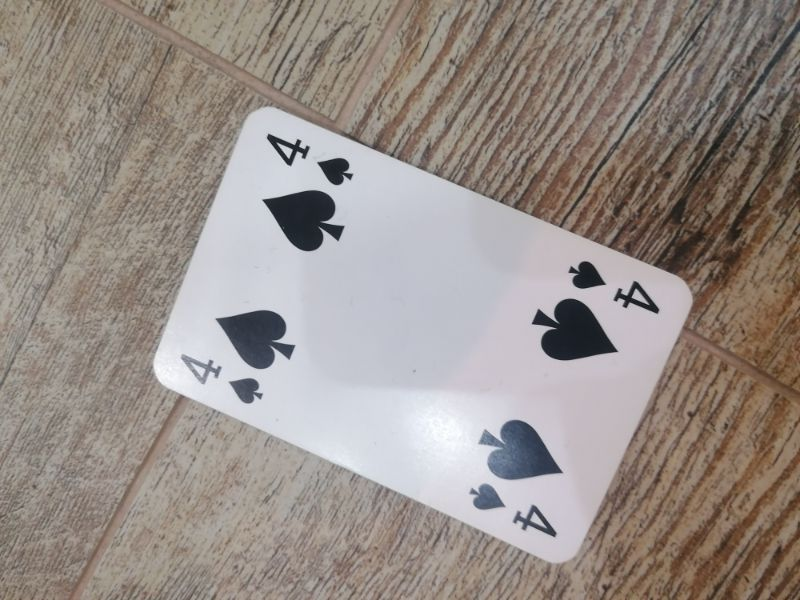4s: (566, 258, 662, 319), (262, 129, 356, 190), (467, 480, 559, 540), (176, 351, 267, 406)
